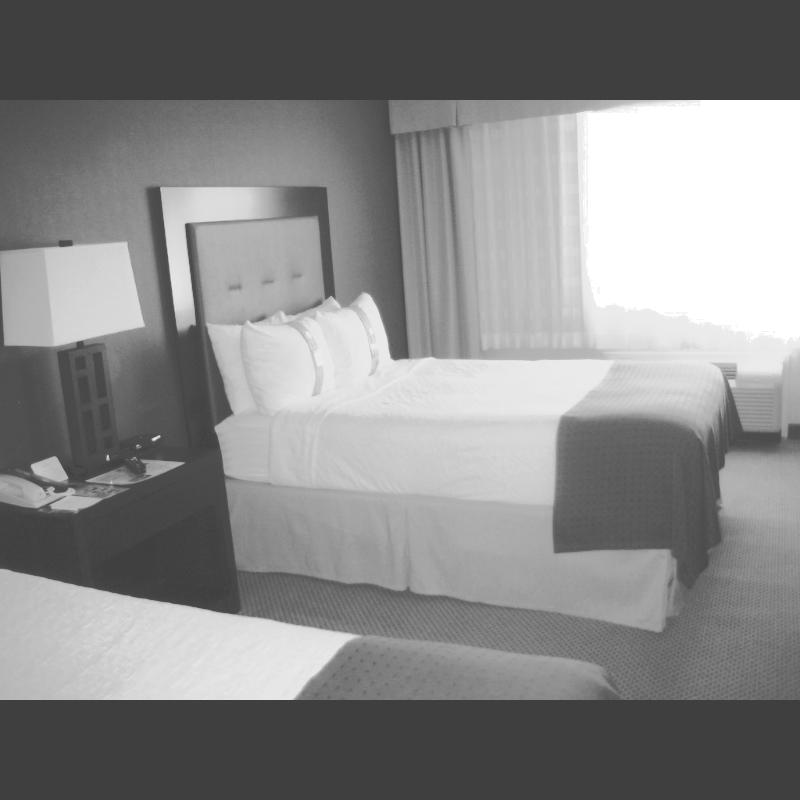pillow: (206, 310, 286, 416), (316, 292, 394, 392), (248, 315, 314, 417), (279, 296, 343, 318)
